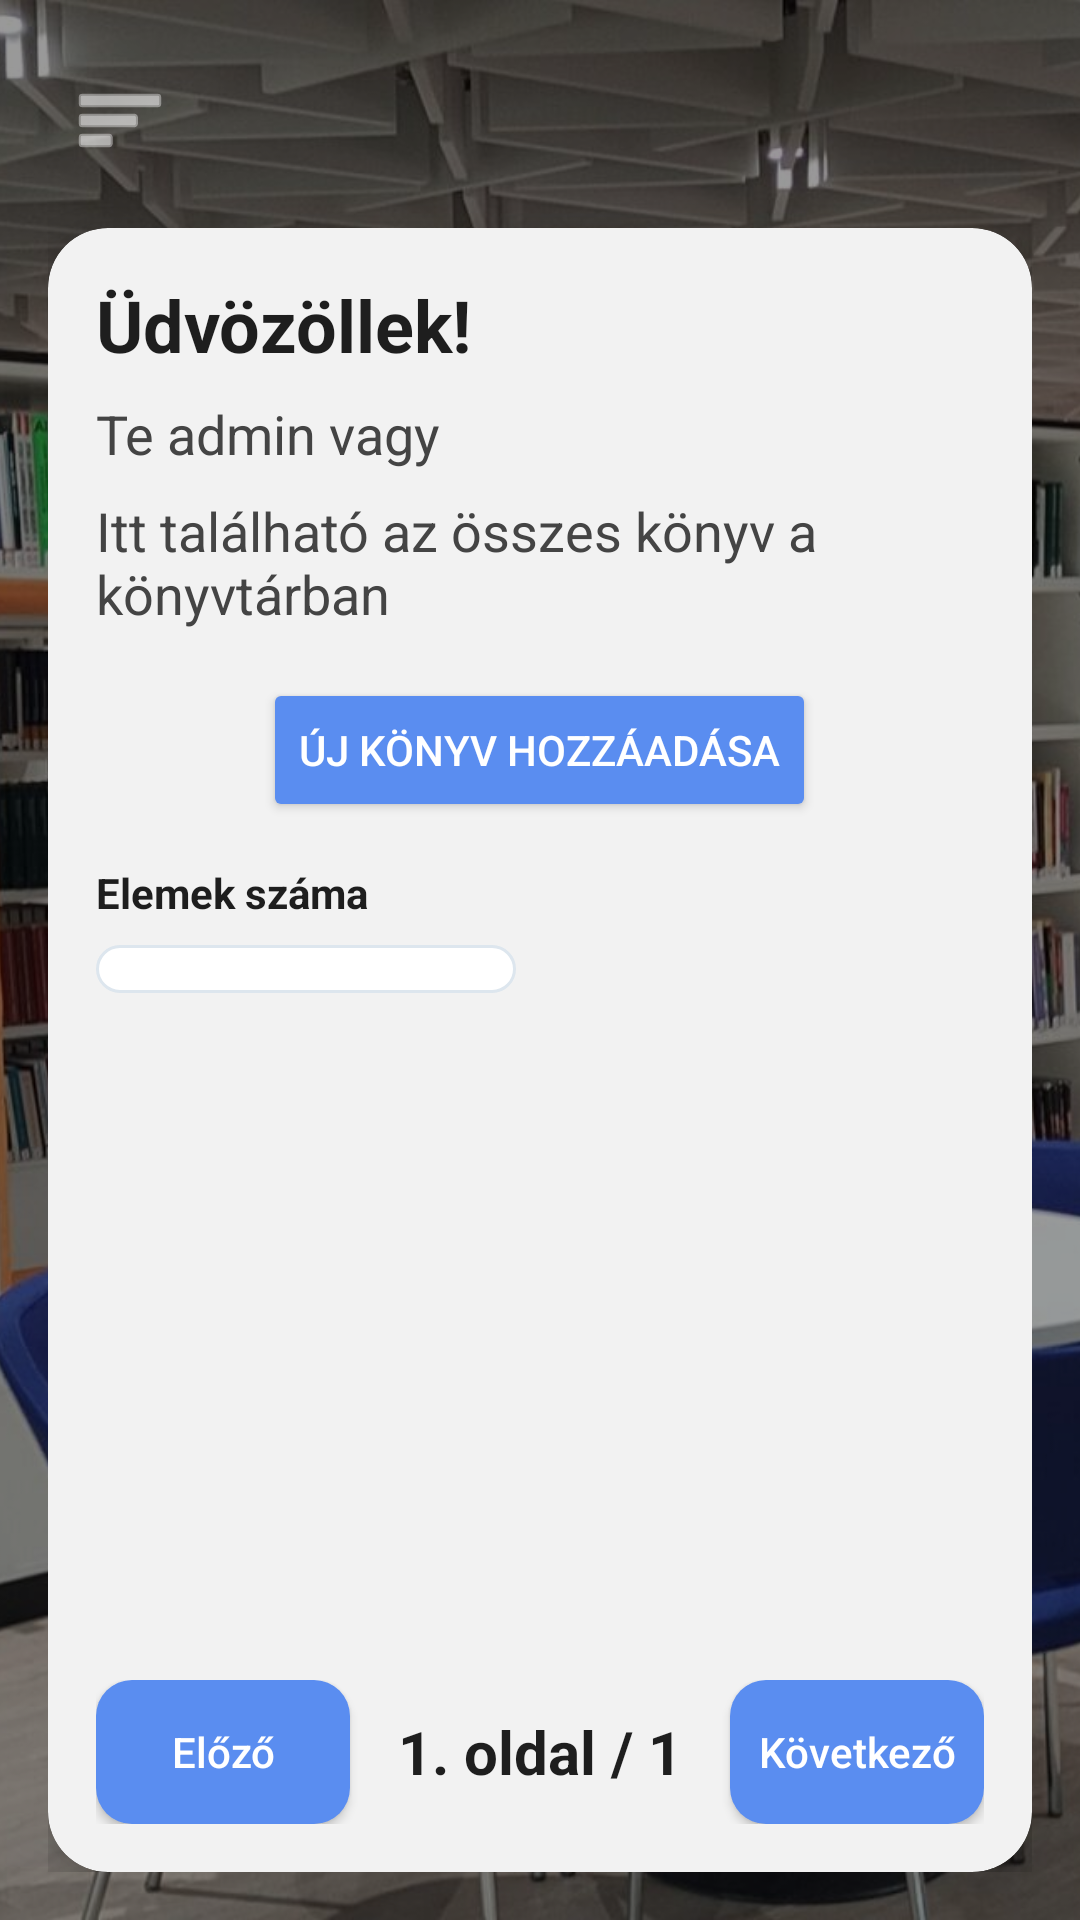

Icons on this 1080w x 1920h Android screen, each with its box as bbox=[x1, y1, x2, y2]:
Menü: bbox=[48, 94, 171, 191]
